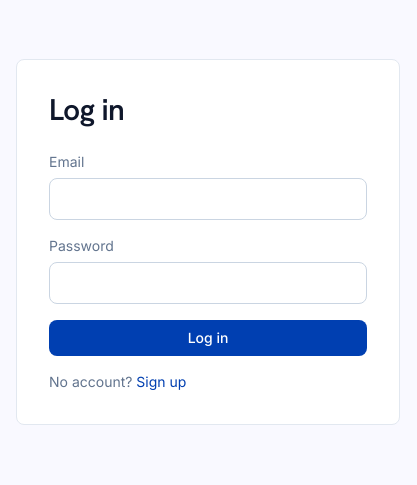
Test: LoginPage › confirms once the verification email has been resent
Type "unverified@example.com" into the field labelled "Email". click: (208, 198)
box: [49,178,367,220]
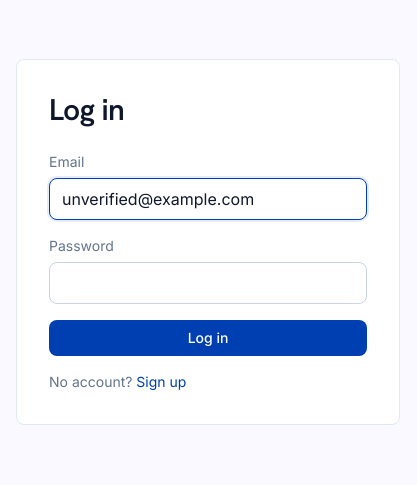
Type "password123" into the password field labelled "Password". click: (208, 282)
box: [49,262,367,304]
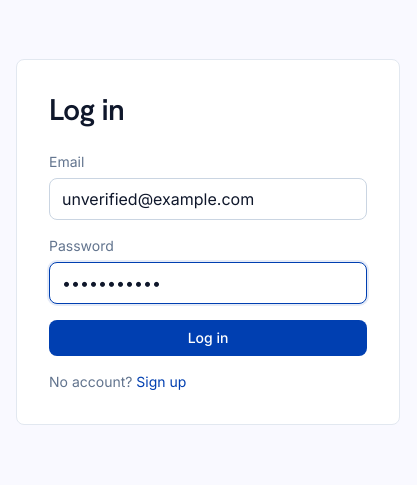
Click the button "Log in". click: click(208, 338)
box: [49,320,367,356]
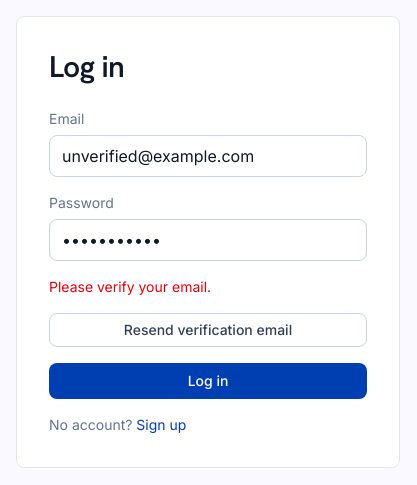
Click the button "Resend verification email". click: click(208, 330)
box: [49,312,367,346]
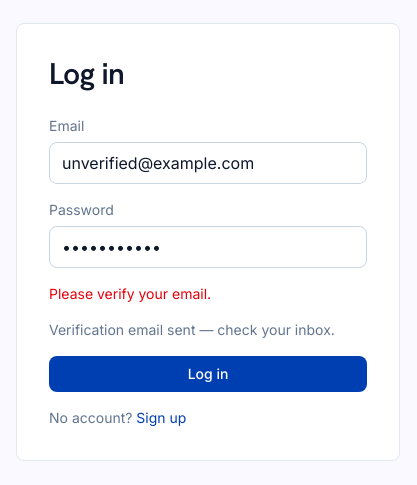
Expected: the text "Verification email sent — check your inbox." is shown, [49,320,367,340]
Expected: the button "Resend verification email" is gone
